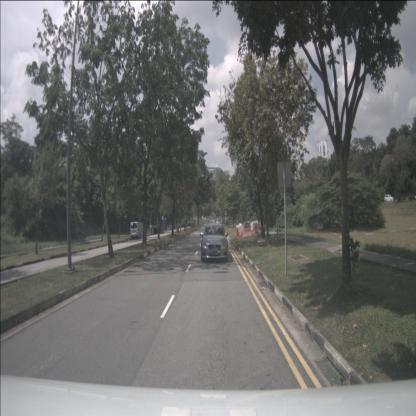human-pedestrian-adult: (150, 223, 152, 234)
vehicle-car: (201, 223, 228, 262), (130, 221, 146, 240), (154, 221, 164, 235), (384, 194, 394, 202)
